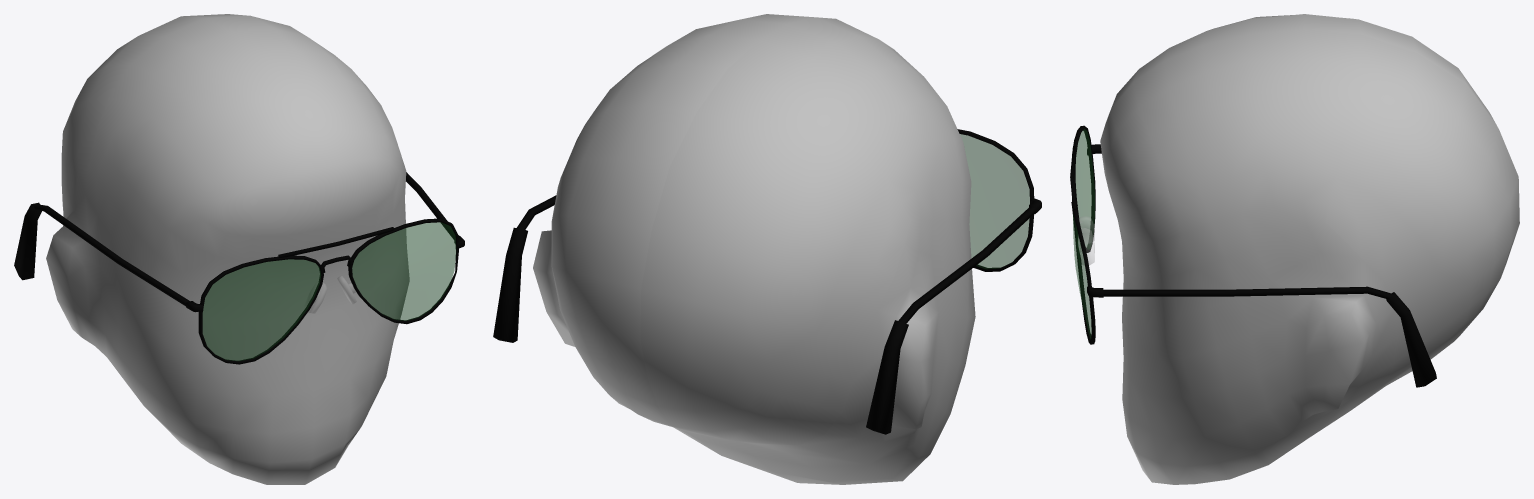
File: glasses.glb
The picture shows the model from 3 angles, left to right: view 1: azimuth 30°, elevation 25°; view 2: azimuth 150°, elevation 25°; view 3: azimuth 270°, elevation 25°; orthographic projection. The views are drawn at different scales.
Parts seen in each view (by area): view 1: HeadOccluder, GLasses; view 2: HeadOccluder, GLasses; view 3: HeadOccluder, GLasses.
Part boxes in pixels (left/top/right/bottom): HeadOccluder: left=46, top=14, right=409, bottom=484; GLasses: left=14, top=172, right=464, bottom=364; HeadOccluder: left=533, top=14, right=975, bottom=484; GLasses: left=493, top=129, right=1041, bottom=434; HeadOccluder: left=1100, top=14, right=1519, bottom=484; GLasses: left=1070, top=125, right=1436, bottom=387.
Size of the model in its own units: 0.1776 by 0.2108 by 0.1948.
Materials: 2 (1 with a texture image).
